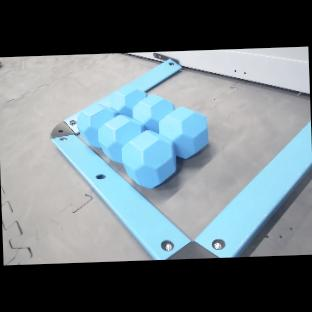V5_BLUE: (122, 131, 176, 188), (159, 107, 208, 159), (98, 115, 145, 164), (77, 104, 118, 148), (133, 94, 175, 133), (110, 86, 147, 118)
